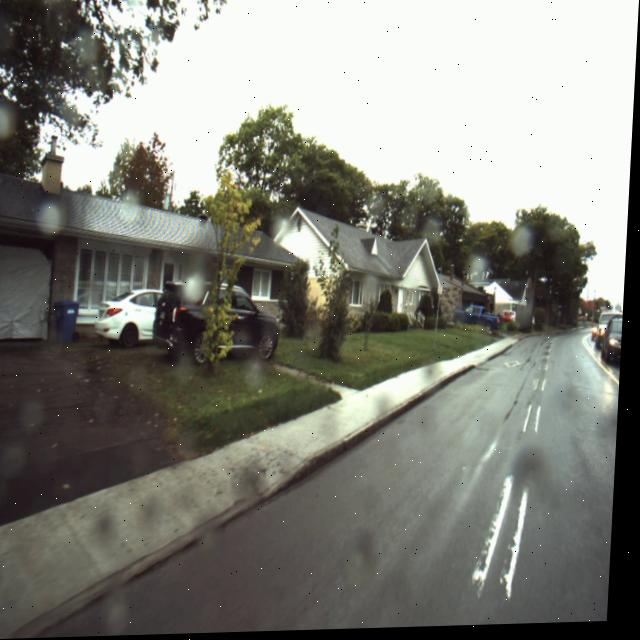car: (155, 283, 287, 372), (458, 311, 501, 331)
